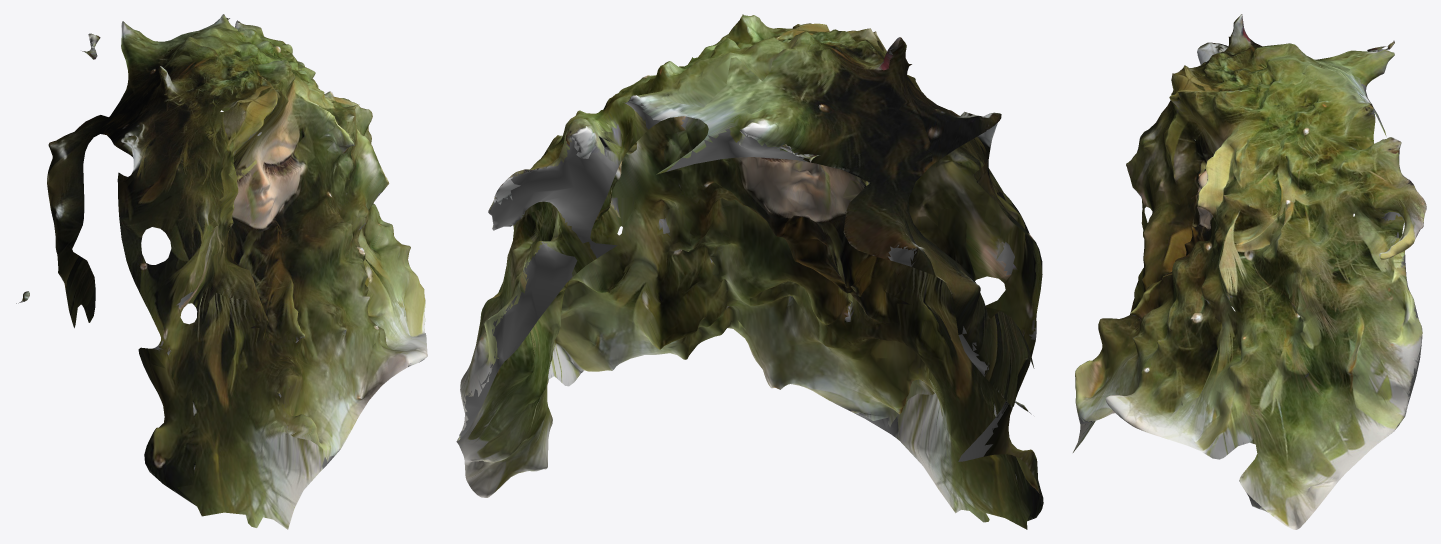
The model's file is greenLady.obj.
The picture shows the model from 3 angles, left to right: view 1: azimuth 30°, elevation 25°; view 2: azimuth 150°, elevation 25°; view 3: azimuth 270°, elevation 25°; orthographic projection. The views are drawn at different scales.
Parts seen in each view (by area): view 1: greenLady; view 2: greenLady; view 3: greenLady.
Part boxes in pixels (x1,y1,x2,y2): greenLady: (16,14,427,529); greenLady: (456,14,1043,529); greenLady: (1073,14,1426,529).
Size of the model in its own units: 15.93 by 15.81 by 12.15.
2 materials, 1 textured.
